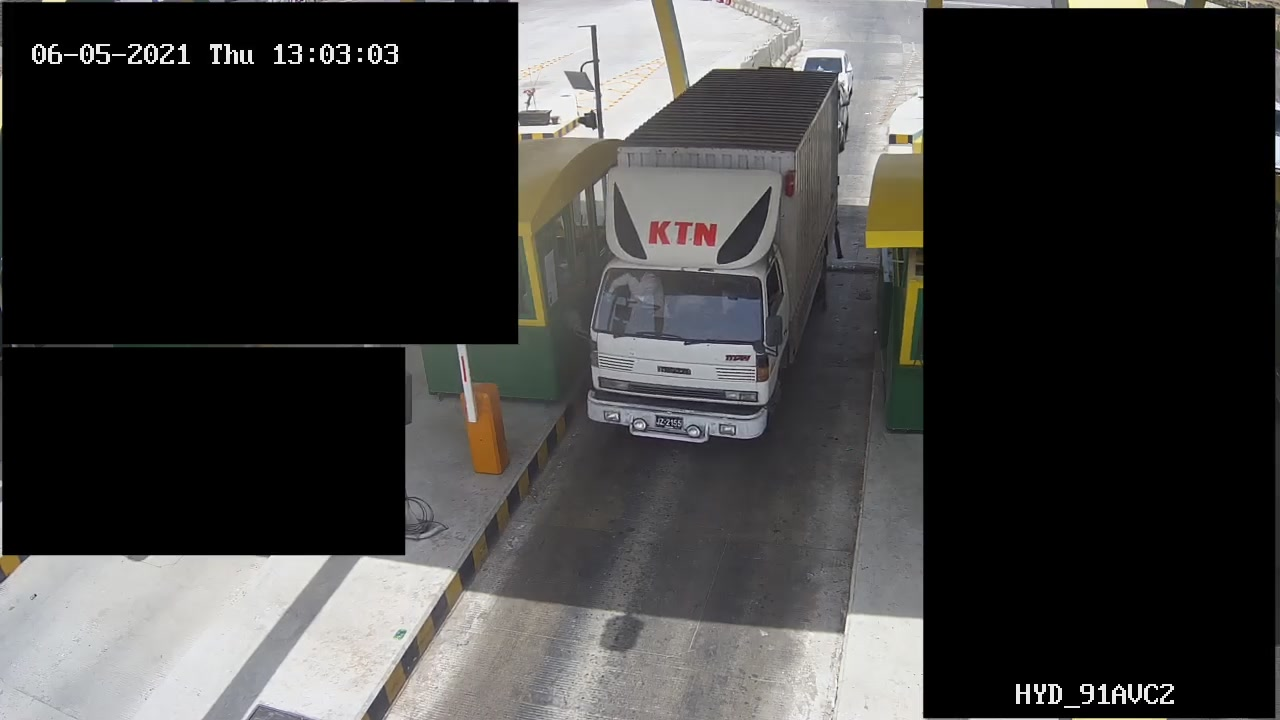F5: (583, 64, 845, 457)
